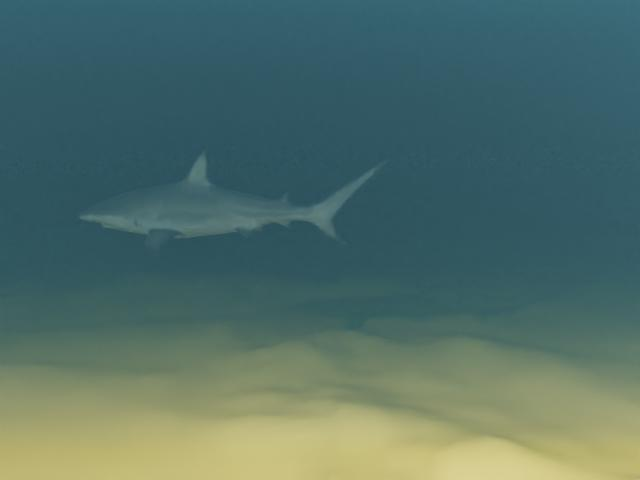Carribean Shark.001: (78, 150, 388, 255)
